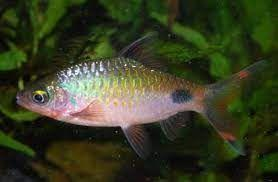Black Spotted Barb: (14, 30, 270, 162)
